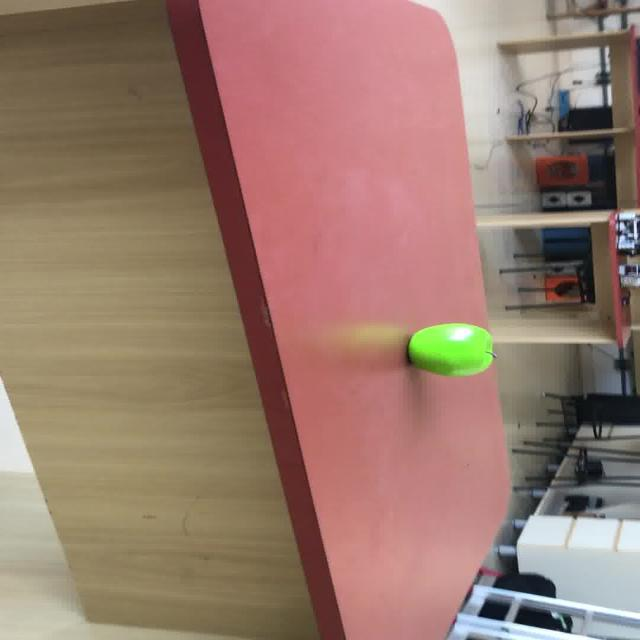apple: (406, 322, 495, 377)
